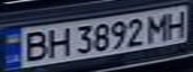2: (124, 16, 151, 47)
3: (72, 22, 96, 55)
8: (90, 20, 112, 52)
9: (109, 18, 130, 50)
B: (15, 28, 51, 63)
H: (42, 25, 72, 60), (163, 7, 193, 39)
M: (145, 11, 175, 43)
